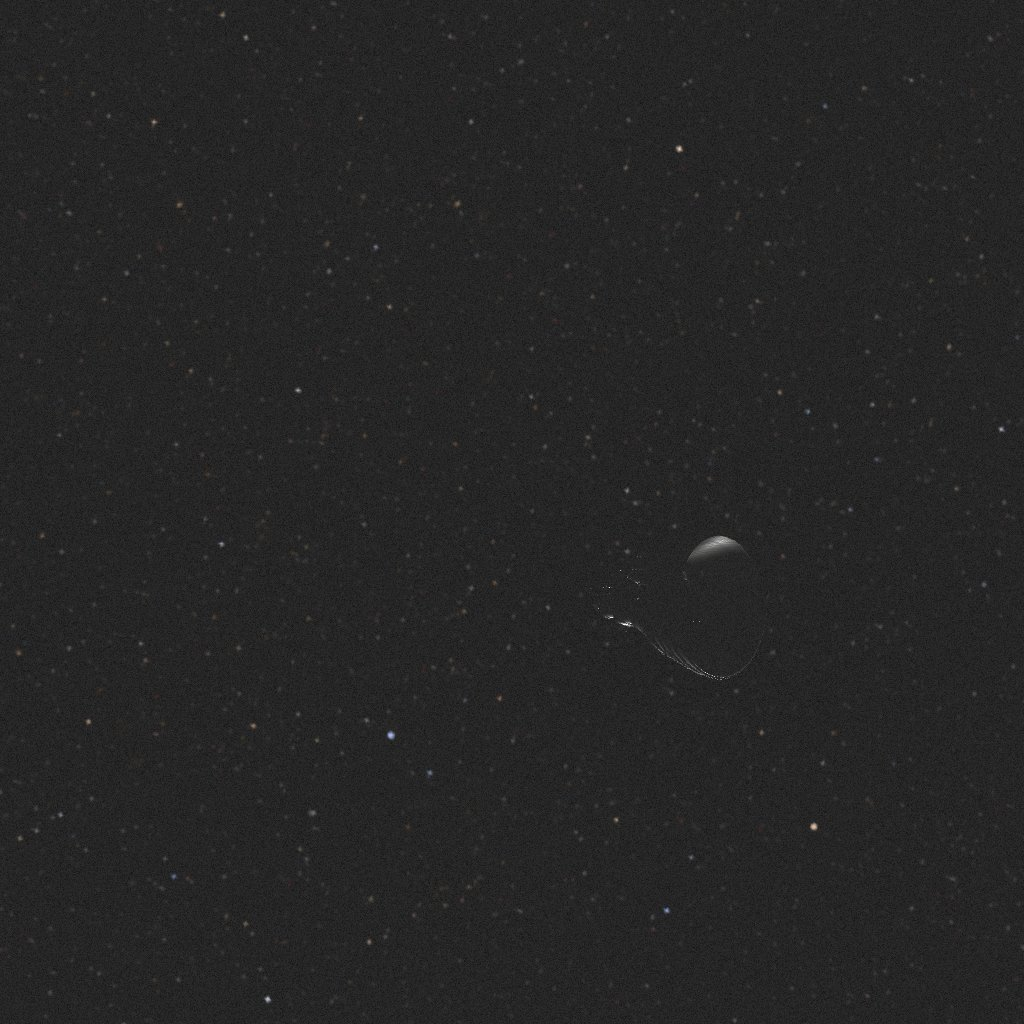debris: (583, 530, 766, 679)
